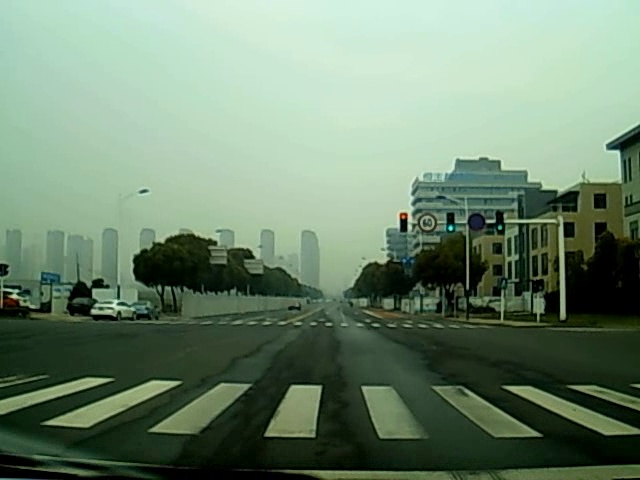Traffic_Light_go: (498, 213, 506, 236), (446, 214, 455, 234)
Traffic_Light_stop: (400, 214, 408, 235)
